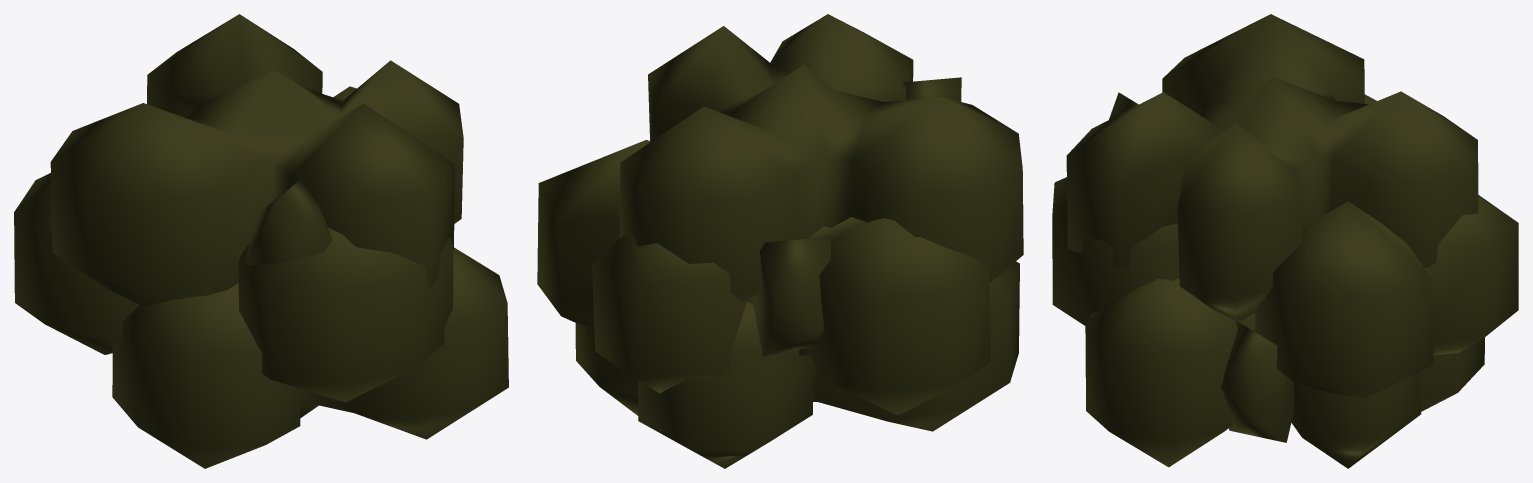
3 views of the same model, side by side, from view 1: azimuth 30°, elevation 25°; view 2: azimuth 150°, elevation 25°; view 3: azimuth 270°, elevation 25° (orthographic). The views are drawn at different scales.
Parts seen in each view (by area): view 1: 4089; view 2: 4089; view 3: 4089.
Boxes of the visible parts, x1,y1,x2,y2 form: 4089: [14, 14, 508, 468]; 4089: [537, 14, 1023, 468]; 4089: [1052, 14, 1518, 468].
Bounding box in the file's own units: 2.64 × 2.16 × 2.65.
